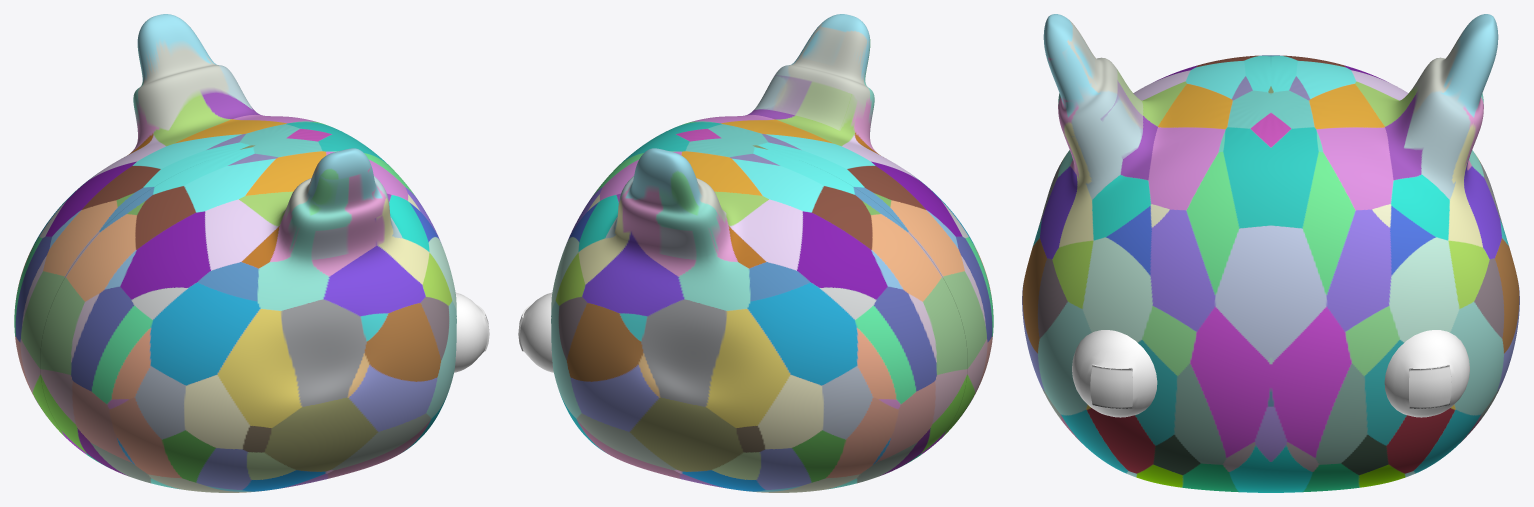
Rendered from Charac.fbx.
3 views of the same model, side by side, from view 1: azimuth 30°, elevation 25°; view 2: azimuth 150°, elevation 25°; view 3: azimuth 270°, elevation 25° (orthographic). The views are drawn at different scales.
Parts seen in each view (by area): view 1: 球, 球.001; view 2: 球, 球.001; view 3: 球, 球.001.
Part boxes in pixels (x1,y1,x2,y2): 球: [14, 14, 456, 492]; 球.001: [454, 292, 489, 372]; 球: [551, 14, 993, 492]; 球.001: [518, 292, 553, 372]; 球: [1022, 14, 1519, 492]; 球.001: [1072, 330, 1469, 417].
Size of the model in its own units: 351 by 321 by 338.
2 materials, 2 textured.
